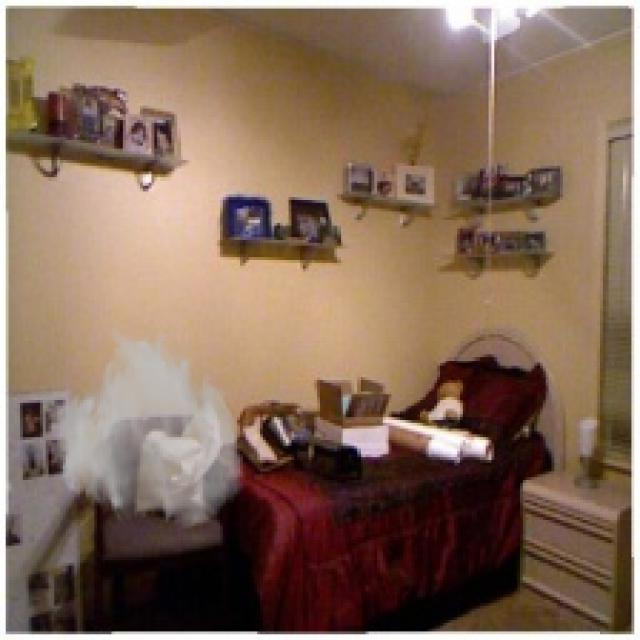Smoke: (46, 323, 246, 531)
